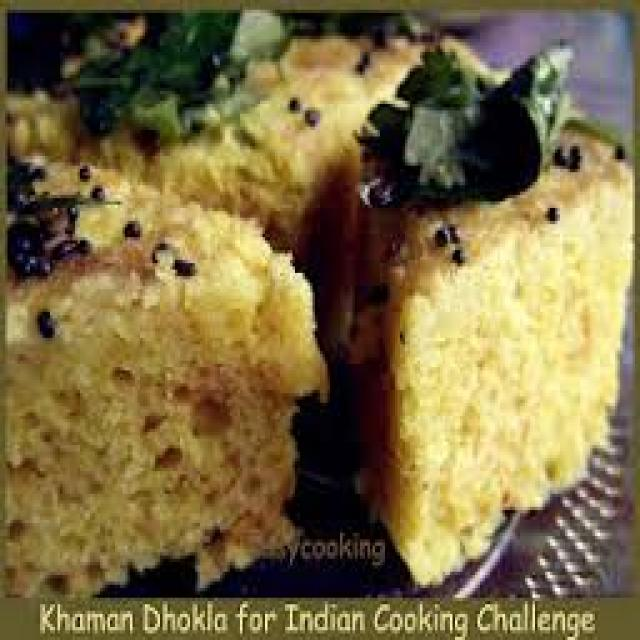DHOKLA: (0, 31, 638, 593)
